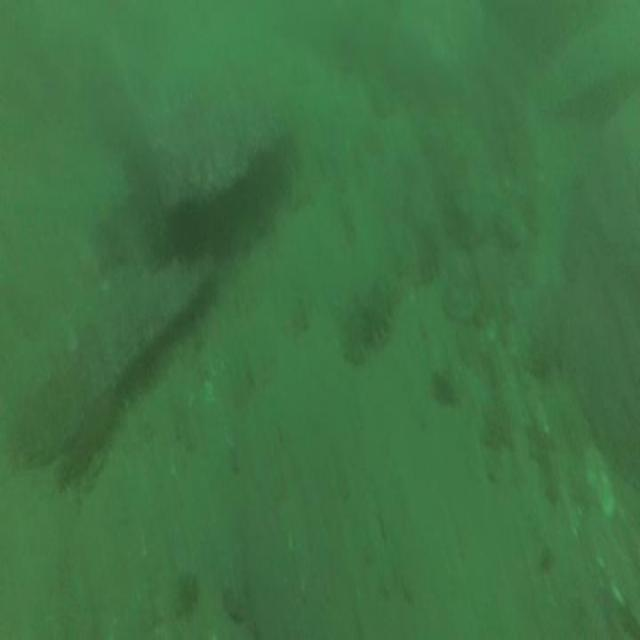echinus: (168, 196, 205, 267)
holothurian: (342, 269, 398, 357)
